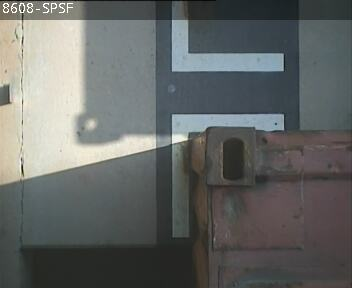groundmarker_1: (171, 2, 284, 236)
